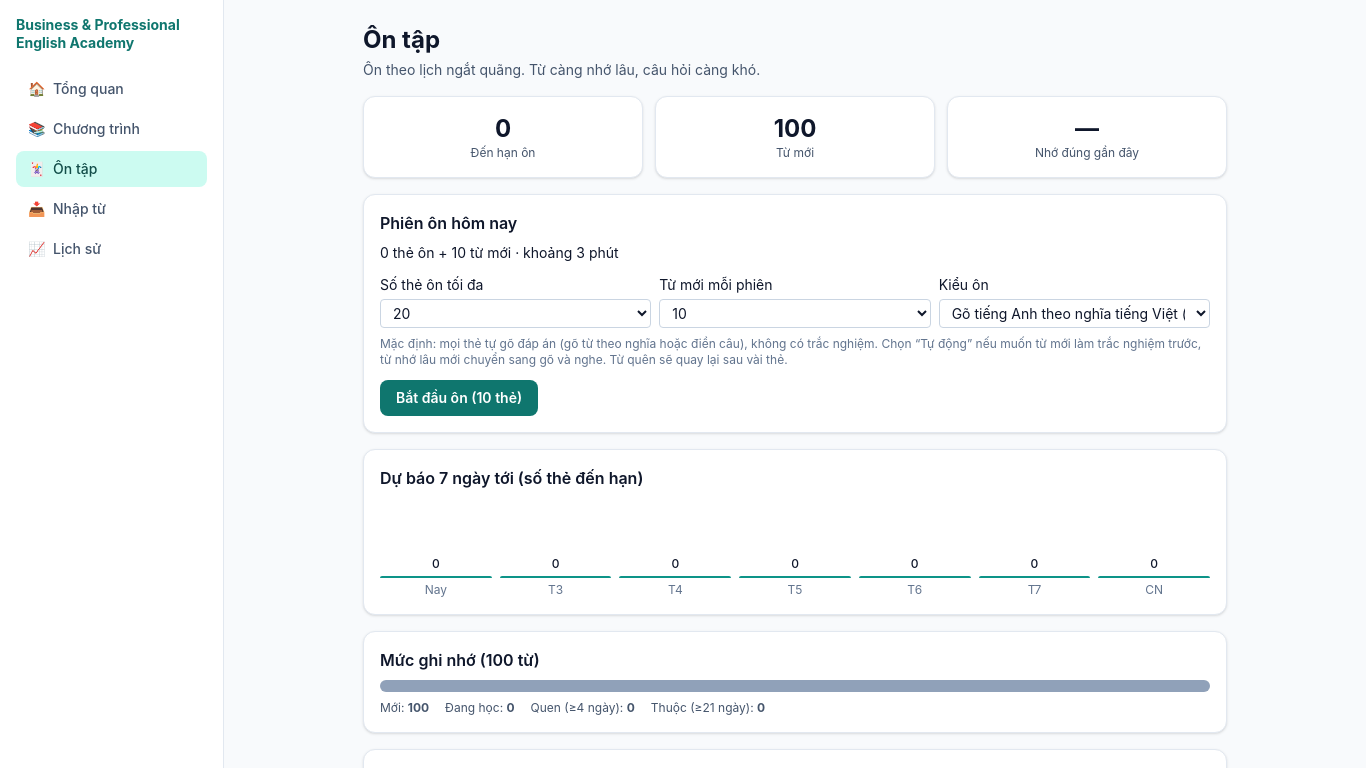
Ôn tập: phiên ôn tính lịch › từ mới: xem → trắc nghiệm → đúng → lưu lịch 1 ngày
Select "1" in the dropdown labelled "Từ mới mỗi phiên" at {"x": 795, "y": 314}, box [659,299,931,328]
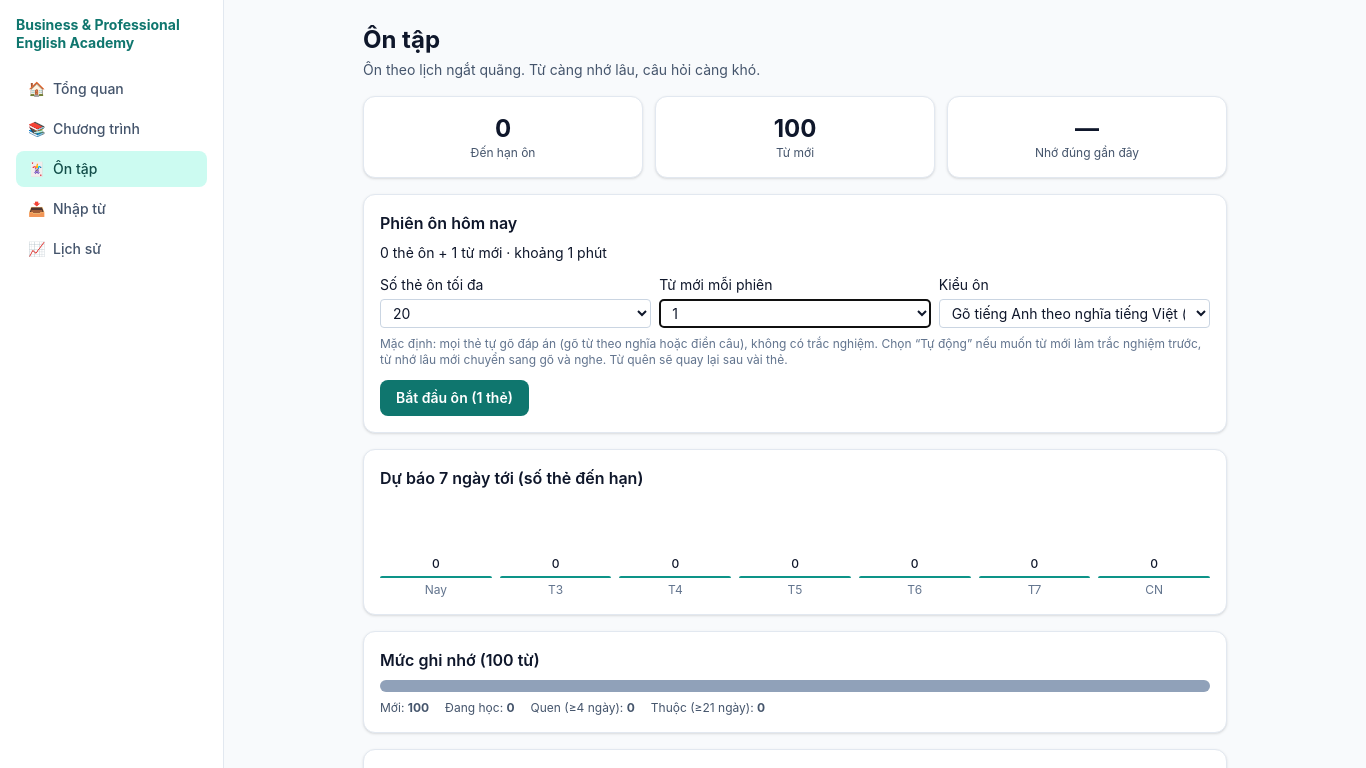
Select "Tự động (trắc nghiệm → gõ)" in the dropdown labelled "Kiểu ôn" at {"x": 1074, "y": 314}, box [939,299,1210,328]
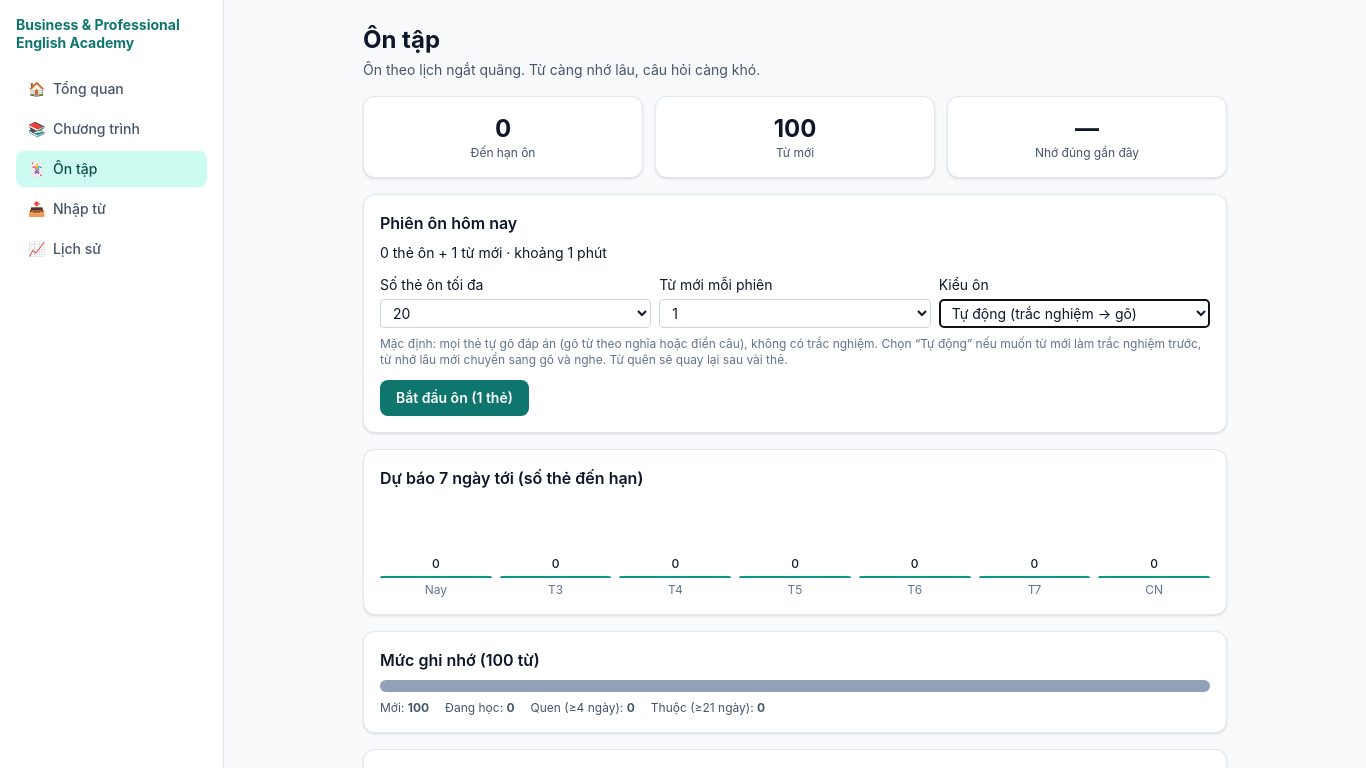
Click the button "Bắt đầu ôn (1 thẻ)" at {"x": 454, "y": 398}, box [380,380,529,416]
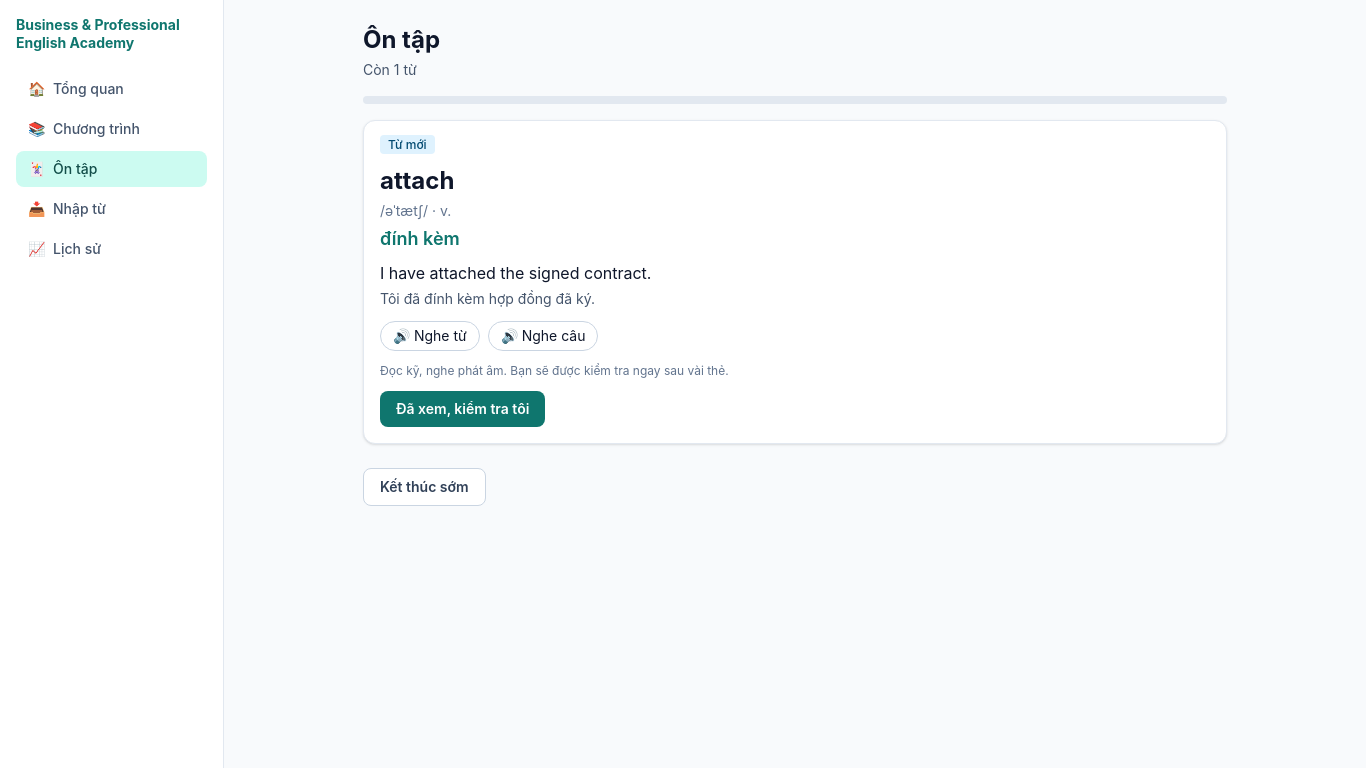
Check: the text "Từ mới" is shown, box [380,135,435,154]
Click the button "Đã xem, kiểm tra tôi" at {"x": 463, "y": 409}, box [380,391,545,427]
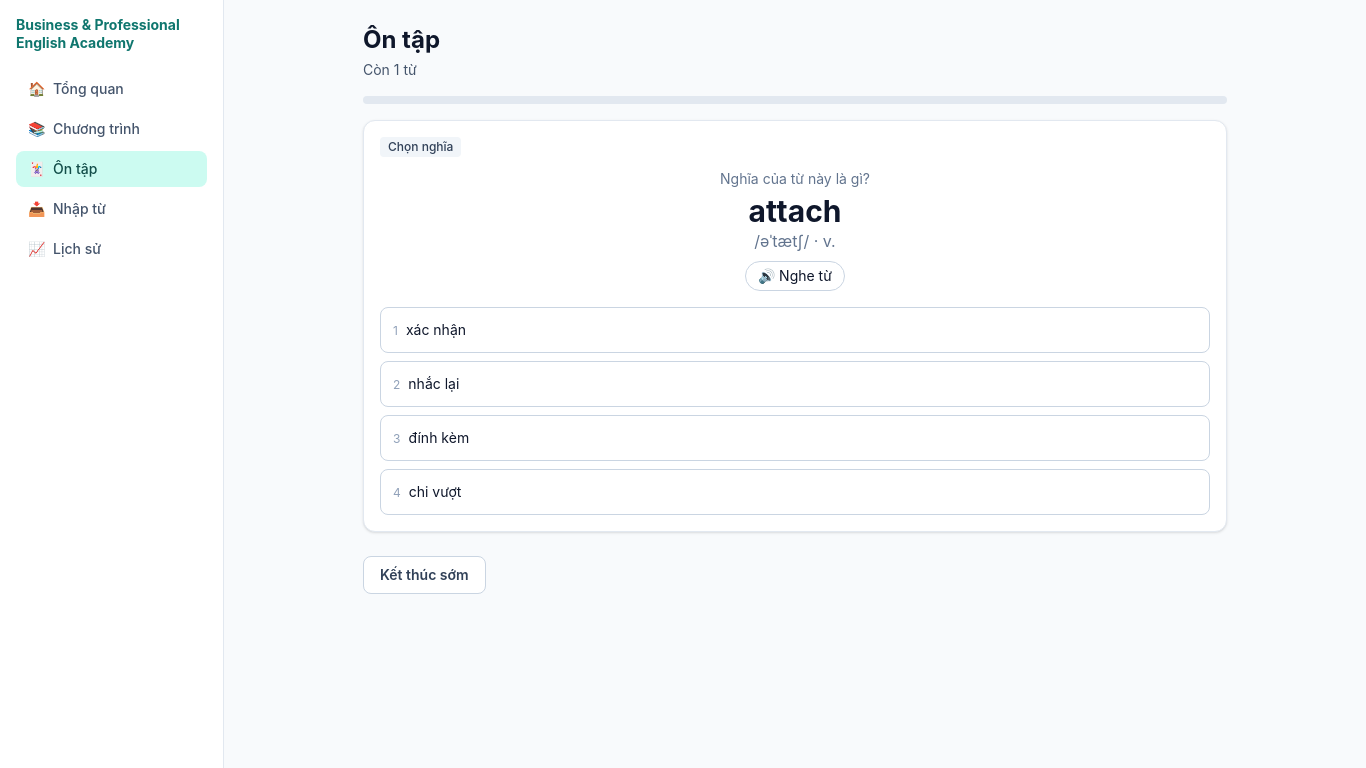
Check: the text "Chọn nghĩa" is shown, box [380,137,461,157]
Click the radio button labelled "3đính kèm" at {"x": 439, "y": 438}, box [380,415,1210,461]
(page scrolled)
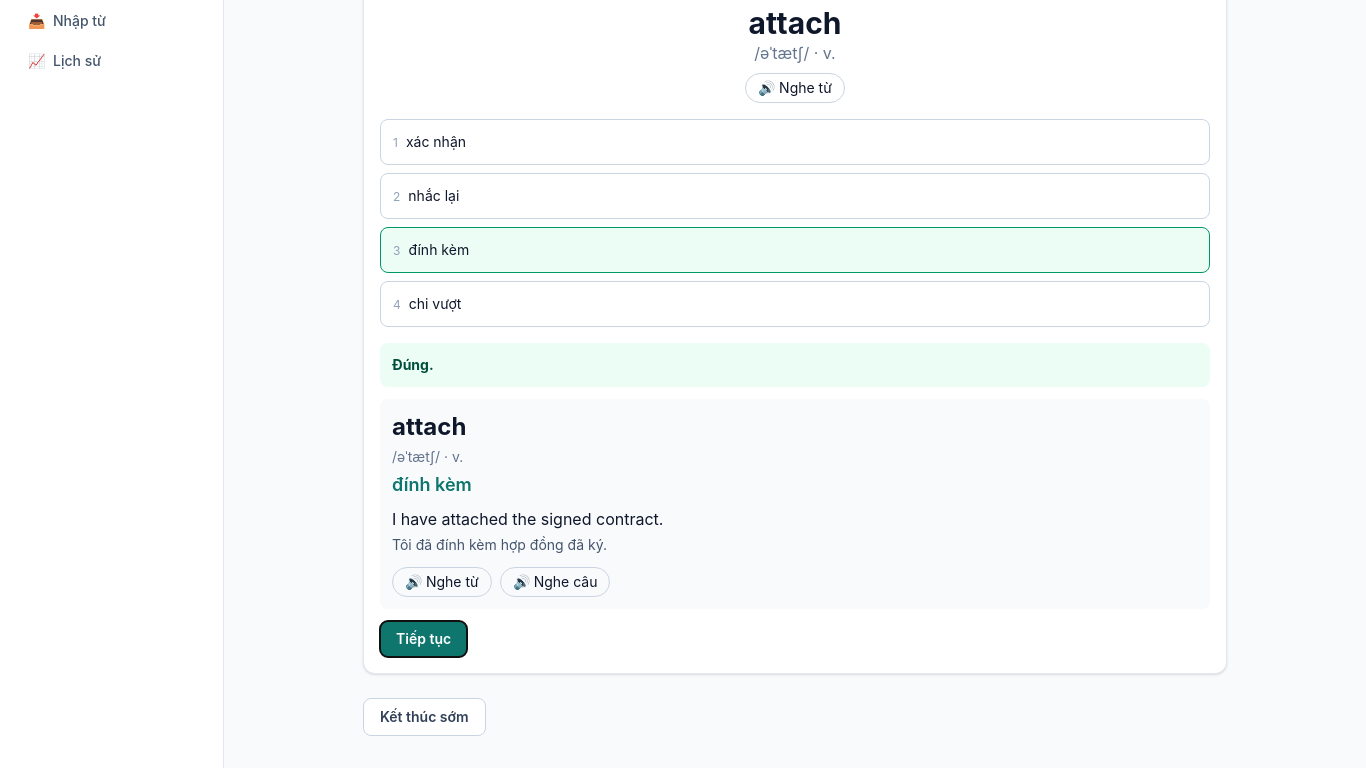
Check: the text "Đúng." is shown, box [392,356,434,373]
Click the button "Tiếp tục" at {"x": 424, "y": 639}, box [380,621,467,657]
(page scrolled)
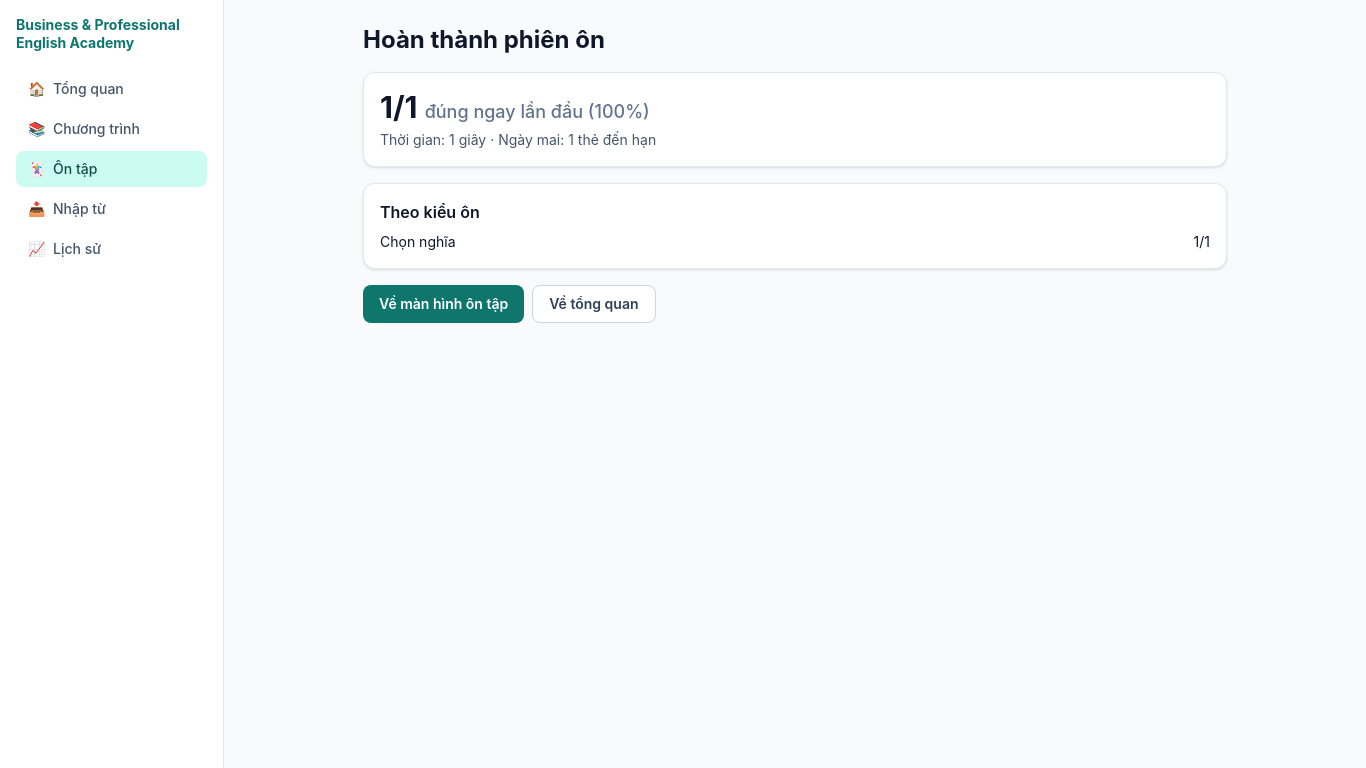
Check: the heading "Hoàn thành phiên ôn" is shown, box [363,25,605,54]
Check: the text "đúng ngay lần đầu (100%)" is shown, box [425,101,650,122]
